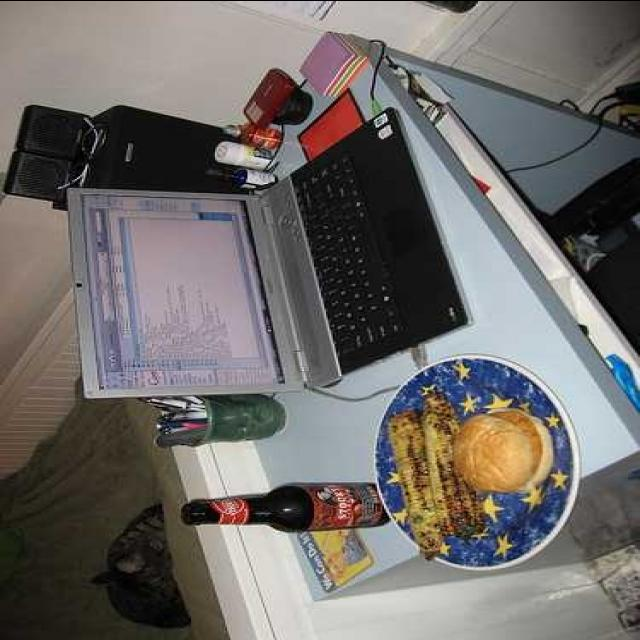laptop: (83, 188, 435, 348)
